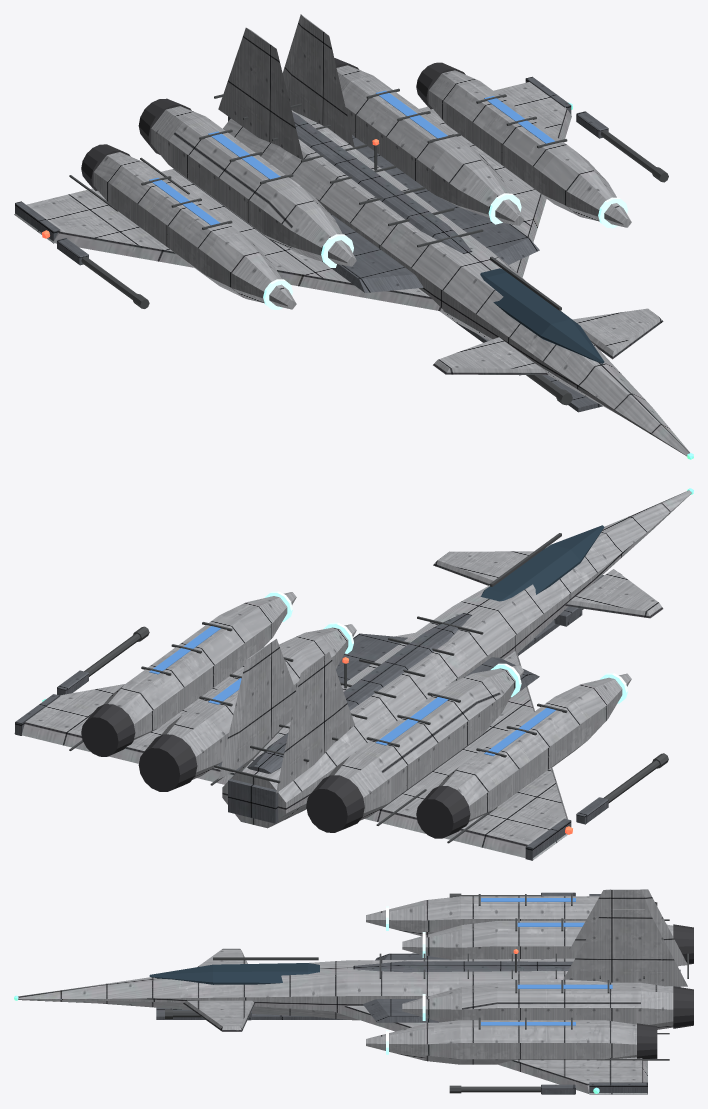
Rendered from swift.glb.
3 renders of one model, top to bottom at view 1: azimuth 30°, elevation 25°; view 2: azimuth 150°, elevation 25°; view 3: azimuth 270°, elevation 25°, orthographic. The views are drawn at different scales.
Parts seen in each view (by area): view 1: swift; view 2: swift; view 3: swift.
Part boxes in pixels (x1,y1,x2,y2): swift: (14, 14, 693, 459); swift: (14, 488, 693, 860); swift: (14, 889, 693, 1094).
Bounding box in the file's own units: 6.33 × 1.73 × 9.28.
Materials: 9 (2 with a texture image).
